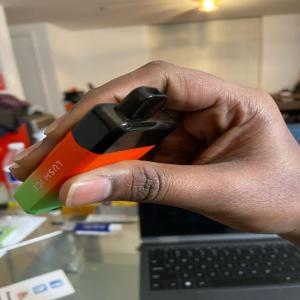Swift-E-Ciggirate: (13, 86, 181, 225)
